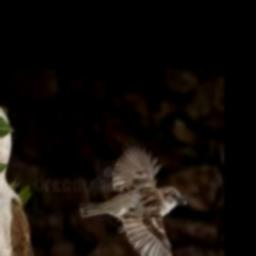Sparrow: (79, 145, 193, 256)
